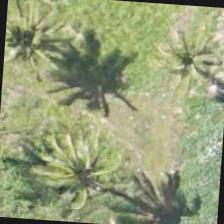Kelapa_Sawit: (35, 133, 132, 223), (144, 11, 223, 107), (1, 0, 74, 91)
